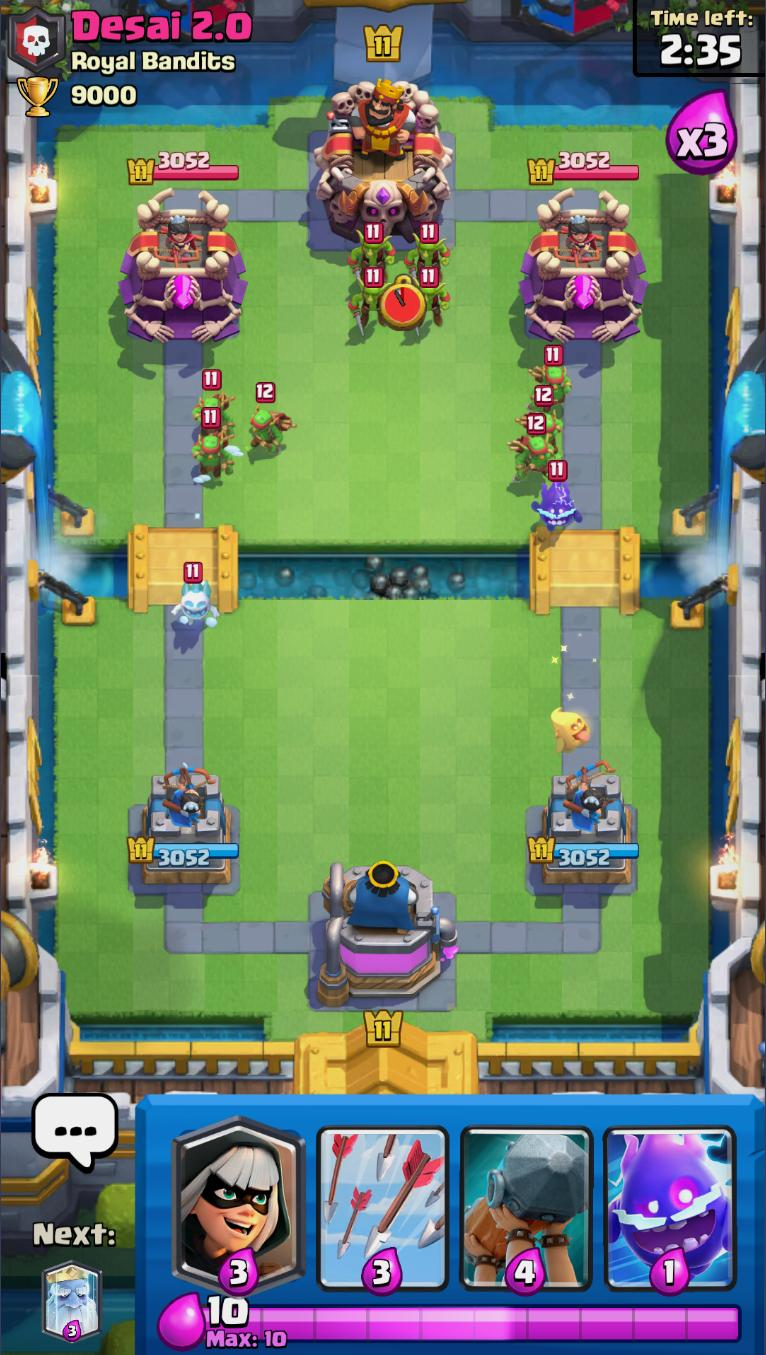ArrowDeck: (310, 1097, 454, 1293)
BanditDeck: (166, 1098, 311, 1290)
BattleRamDeck: (452, 1095, 599, 1297)
ElectroSpirit: (531, 460, 585, 538)
ElectroSpiritDeck: (597, 1097, 745, 1293)
Elixir: (203, 1285, 252, 1328)
EnemyTower: (515, 190, 650, 348), (120, 197, 241, 347)
Goblin: (348, 265, 393, 333), (402, 224, 455, 280), (350, 223, 398, 278), (405, 270, 450, 323)
HealSpirit: (552, 712, 590, 752)
IceSpirit: (169, 562, 217, 628)
KingTower: (313, 73, 450, 257)
MyKingTower: (315, 860, 462, 1010)
MyPrincessTower: (122, 773, 240, 892), (530, 767, 642, 887)
MyPrincessTowerHP: (123, 833, 240, 869), (527, 837, 640, 867)
PrincessTower: (153, 212, 203, 268), (557, 213, 603, 267)
RoyaleGhostNext: (42, 1257, 103, 1343)
SpearGoblin: (248, 382, 292, 460), (508, 416, 557, 485), (187, 408, 228, 487), (527, 348, 572, 409), (525, 387, 567, 450), (195, 370, 232, 440)
TowerPrincessHP: (126, 150, 241, 188), (526, 150, 640, 188)
